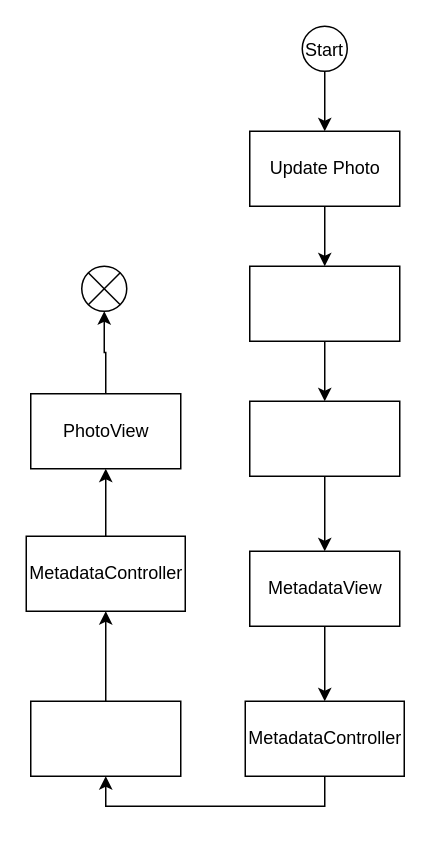
This 431x845 diagram has some shape labels left out. Here are the shapes that lost their labels. From the top down, the box of each, then its label:
(248, 265, 400, 341): PhotoController
(248, 400, 400, 476): DB_Photo table
(29, 700, 181, 776): DB_Metadata table
